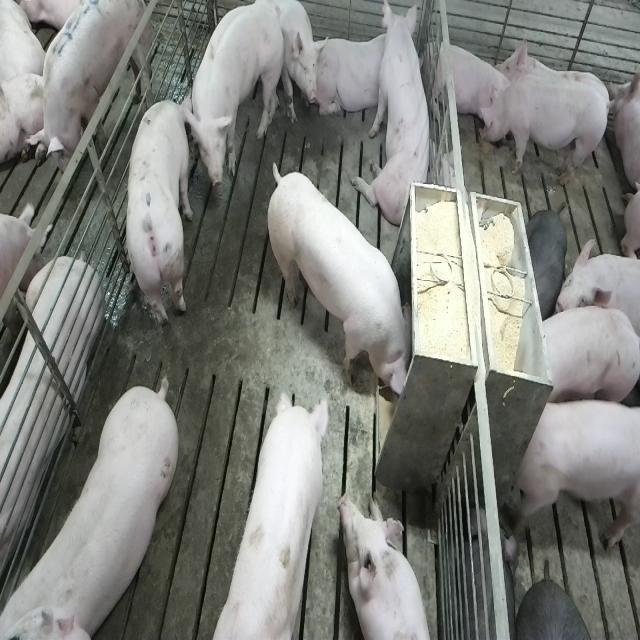Feeding: (270, 163, 420, 403)
Sitting: (356, 4, 436, 228), (272, 2, 321, 132)
Standing: (6, 374, 184, 636), (195, 391, 329, 640), (20, 0, 150, 191), (514, 399, 638, 555), (124, 92, 194, 329), (482, 78, 614, 189), (186, 2, 284, 146), (538, 306, 640, 408)
Sternal_lying: (0, 192, 102, 584), (340, 491, 436, 640), (429, 36, 507, 133), (314, 33, 396, 121)
